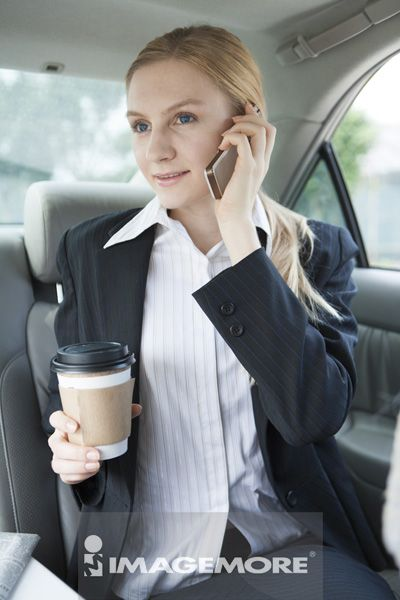talk: (128, 97, 275, 246)
